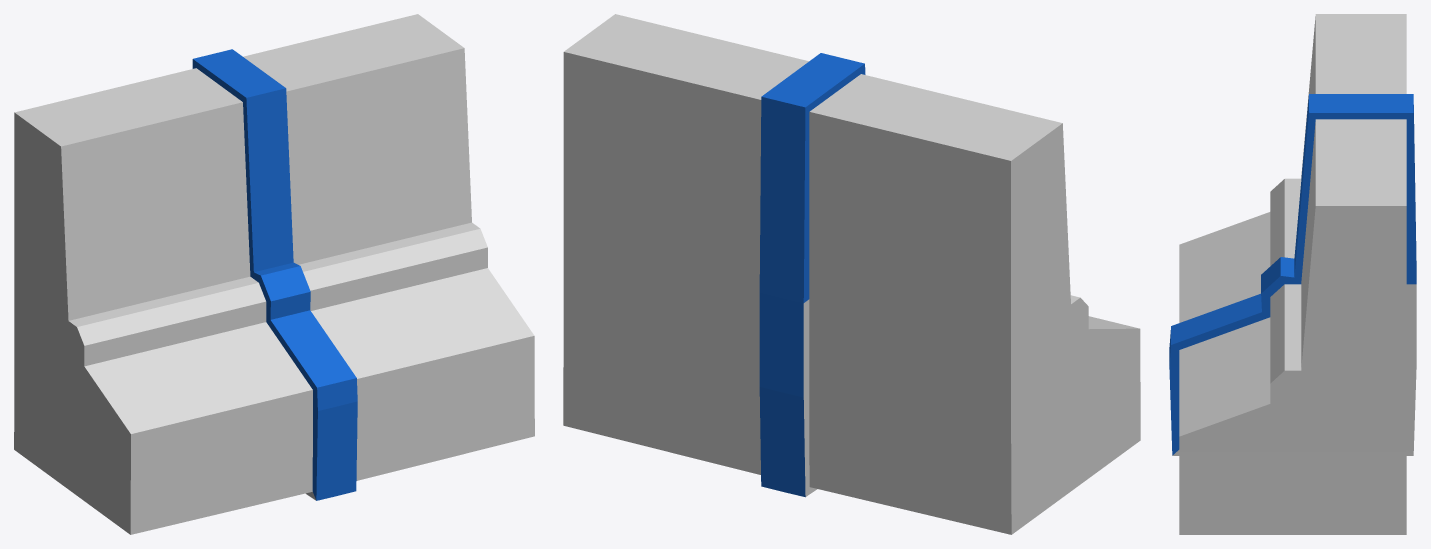
Rendered from WallSideBig.fbx.
3 renders of one model, left to right at view 1: azimuth 30°, elevation 25°; view 2: azimuth 150°, elevation 25°; view 3: azimuth 270°, elevation 25°, orthographic. The views are drawn at different scales.
Parts seen in each view (by area): view 1: BasicCorridor; view 2: BasicCorridor; view 3: BasicCorridor.
Part boxes in pixels (<box>): BasicCorridor: <box>14,14,534,534</box>; BasicCorridor: <box>563,14,1140,534</box>; BasicCorridor: <box>1169,14,1416,534</box>.
Bounding box in the file's own units: 1002 × 840 × 544.
